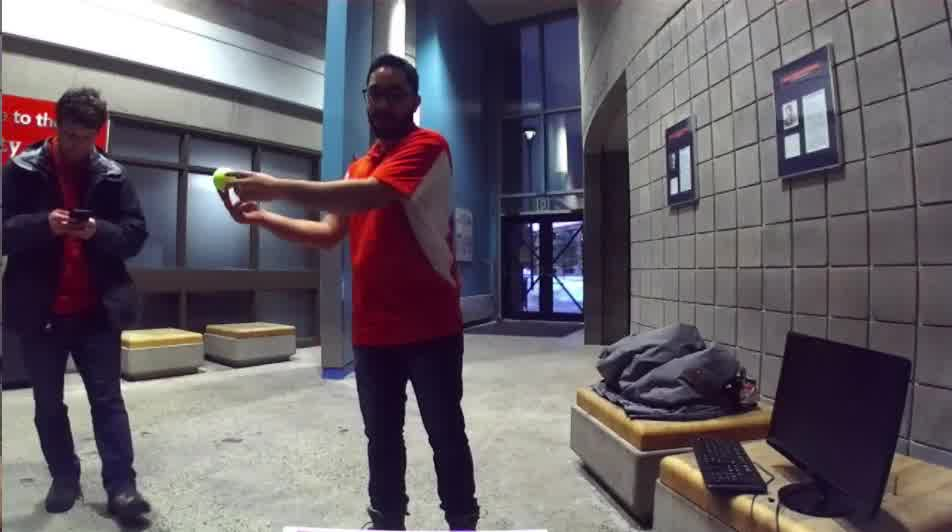tennis_ball: (210, 166, 236, 192)
